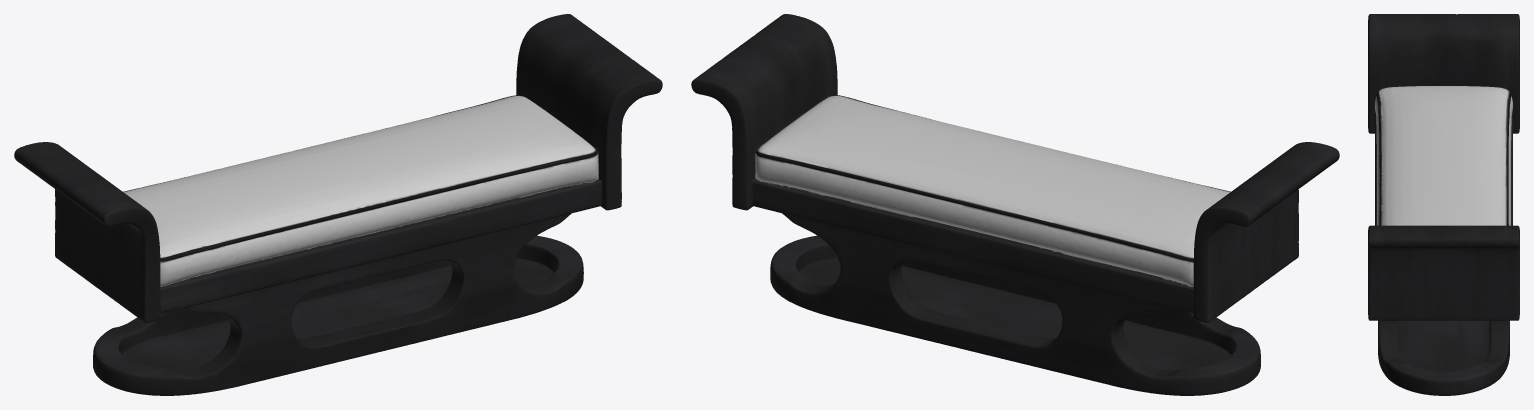
Rendered from contemporary_bench_rryg8o.glb.
3 views of the same model, side by side, from view 1: azimuth 30°, elevation 25°; view 2: azimuth 150°, elevation 25°; view 3: azimuth 270°, elevation 25° (orthographic). The views are drawn at different scales.
Visible parts, largest first — view 1: world; view 2: world; view 3: world.
Boxes of the visible parts, left/top/right/bottom form: world: left=14, top=14, right=662, bottom=395; world: left=691, top=14, right=1339, bottom=395; world: left=1368, top=14, right=1519, bottom=395.
Size of the model in its own units: 1 by 0.363 by 0.2835.
Materials: 1 (1 with a texture image).
